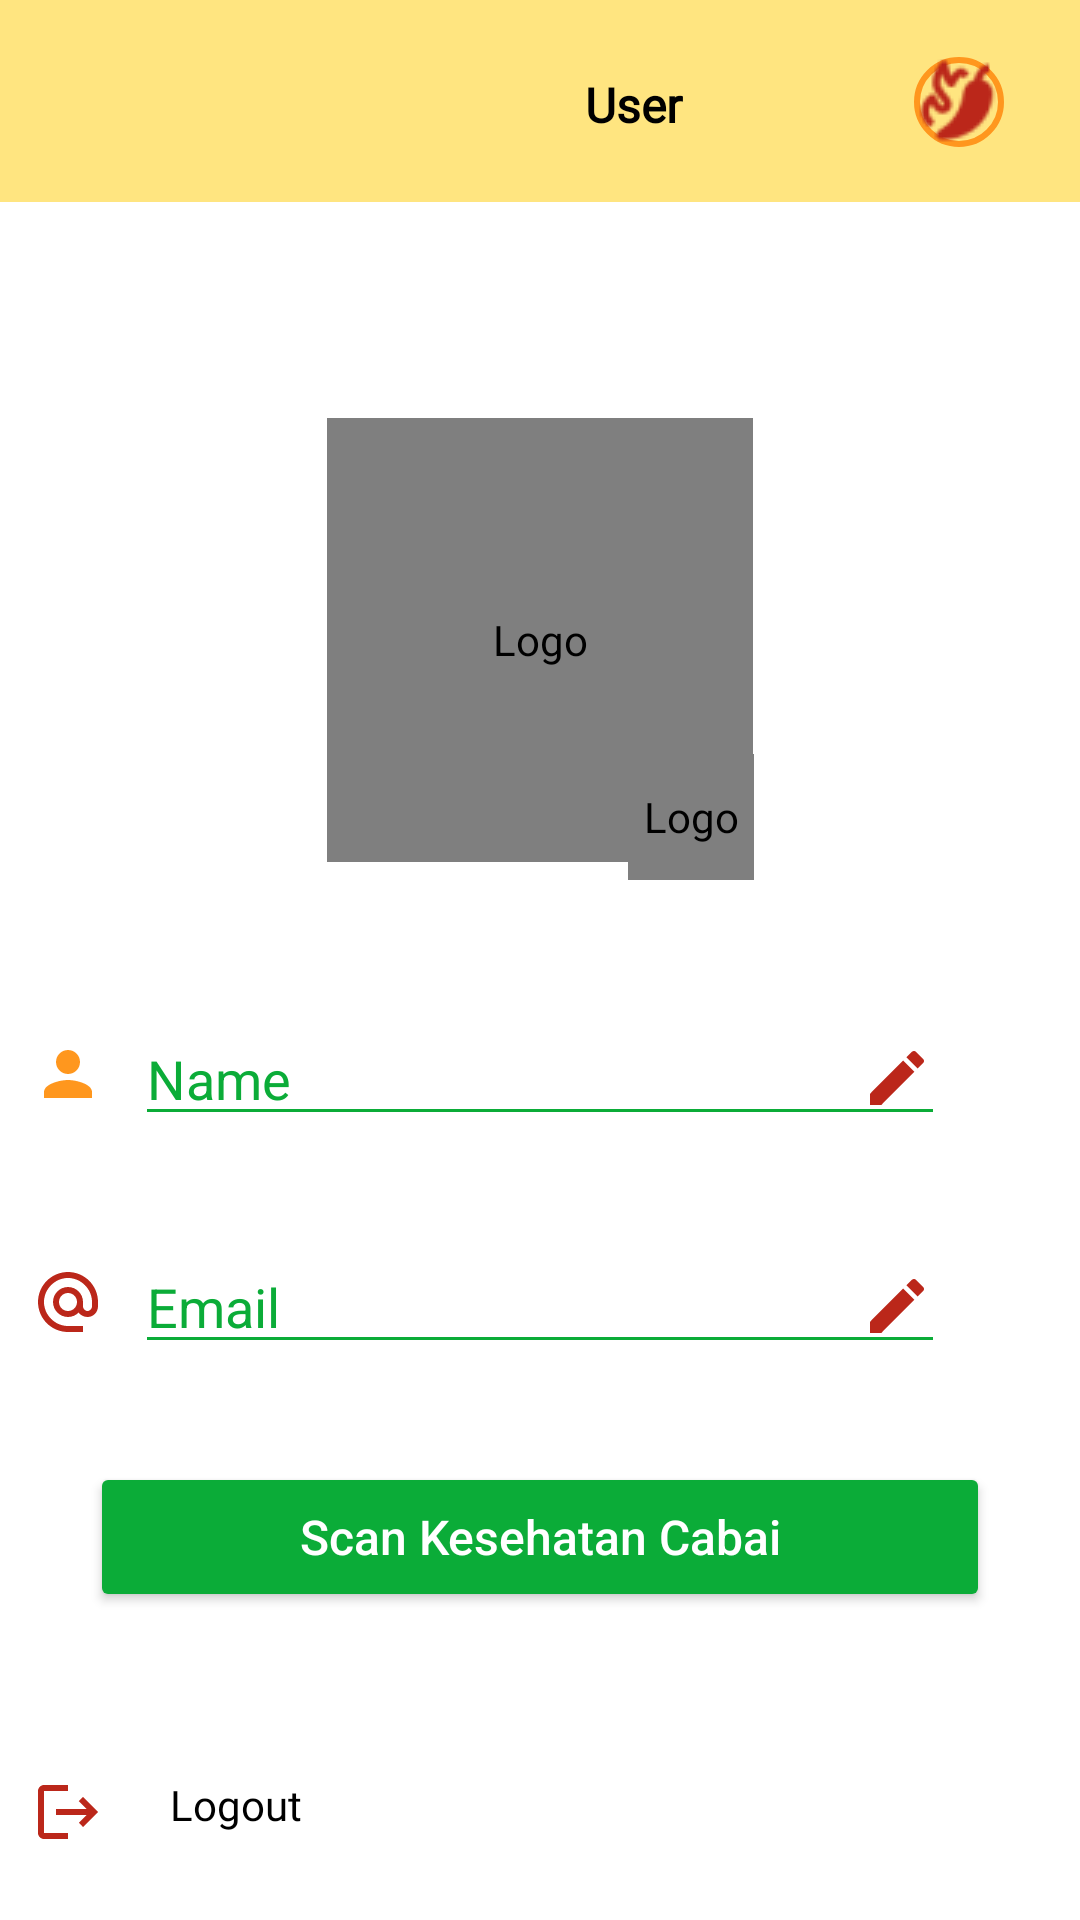

Screen size 1080 x 1920. Icon name, then its box in pixels as (x1, y1, x2, y2):
Icon Person: (44, 1050, 92, 1098)
